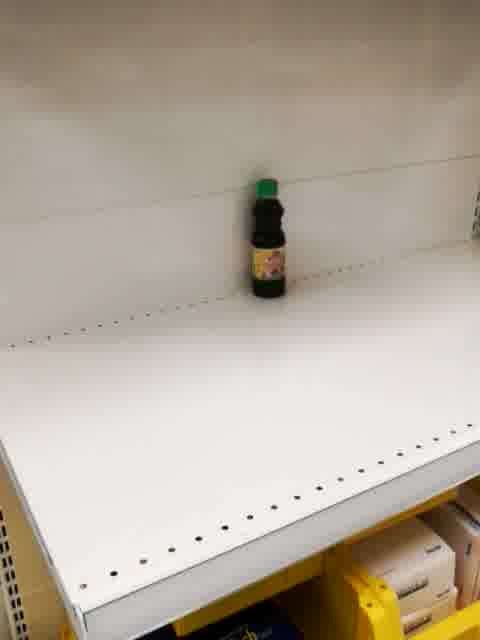cookingoil: (250, 176, 286, 301)
